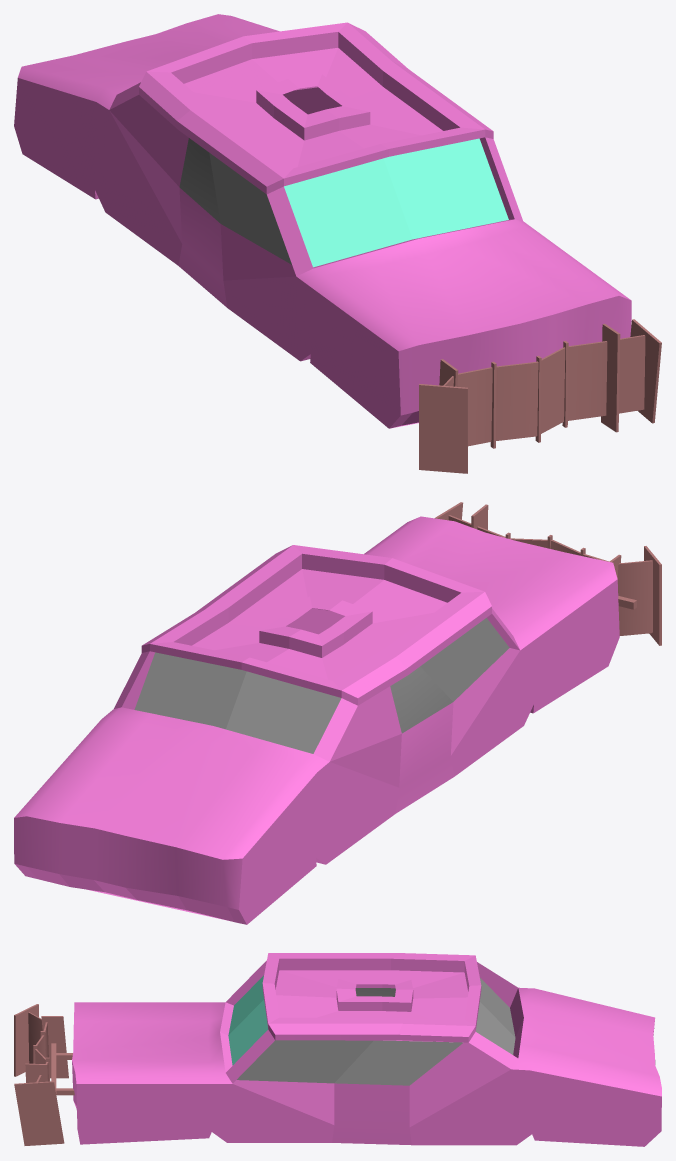
Rendered from MobEnnemi.FBX.
3 views of the same model, one above another, from view 1: azimuth 30°, elevation 25°; view 2: azimuth 150°, elevation 25°; view 3: azimuth 270°, elevation 25° (orthographic). The views are drawn at different scales.
Visible parts, largest first — view 1: Box003; view 2: Box003; view 3: Box003.
Part boxes in pixels (x1,y1,x2,y2): Box003: (14, 14, 661, 473); Box003: (14, 502, 661, 924); Box003: (14, 953, 661, 1146).
Size of the model in its own units: 328 by 230 by 1037.
